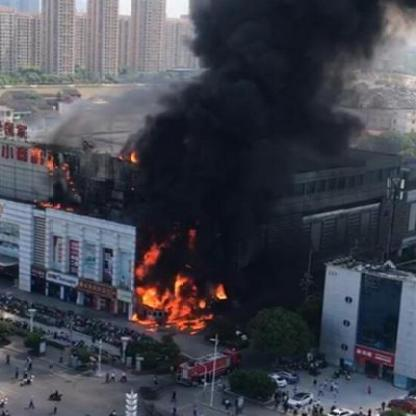fire: (134, 230, 228, 336), (19, 139, 59, 168), (35, 188, 68, 212), (118, 143, 135, 163)
smoke: (133, 5, 387, 217)
